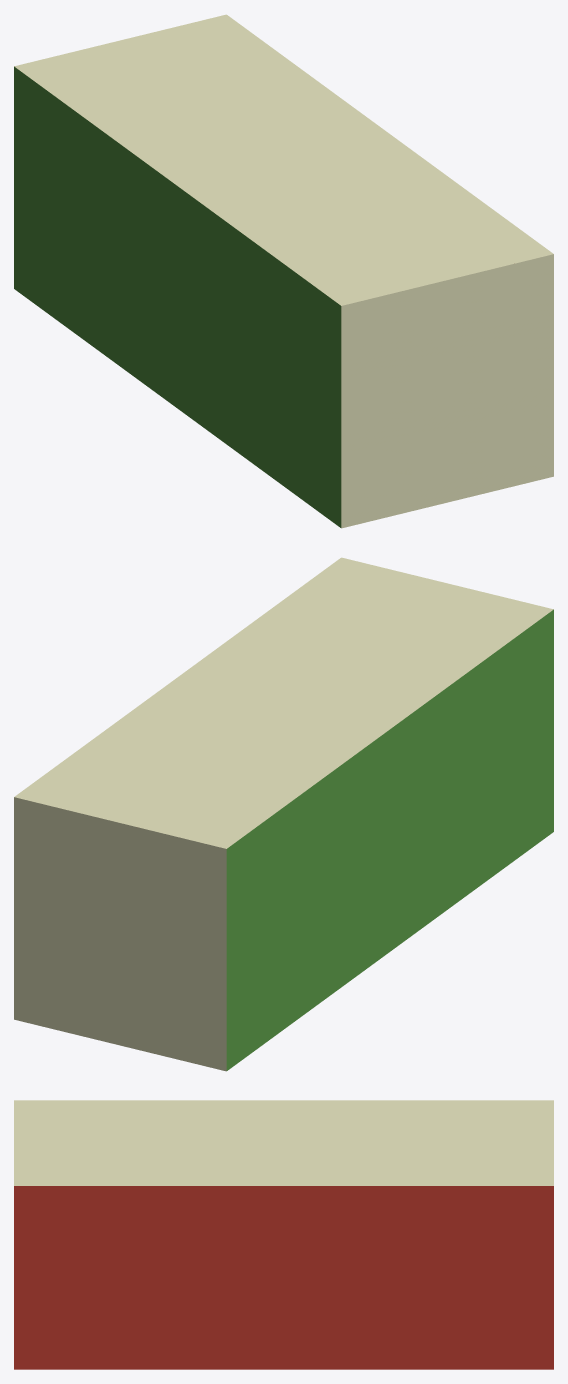
The model's file is cornell_tiles.dae.
3 views of the same model, one above another, from view 1: azimuth 30°, elevation 25°; view 2: azimuth 150°, elevation 25°; view 3: azimuth 270°, elevation 25° (orthographic). The views are drawn at different scales.
Visible parts, largest first — view 1: Plane_061_016, Plane_061_017, Plane_061_018, Plane_061_022, Plane_061_023, Plane_061_019, Plane_061_021, Plane_061_024, Plane_061_020, Plane_046_008, Plane_046_007, Plane_046_011 (+45 smaller); view 2: Plane_038, Plane_043, Plane_037, Plane_035, Plane_040, Plane_042, Plane_036, Plane_041, Plane_039, Plane_047, Plane_048, Plane_051 (+45 smaller); view 3: Plane_023, Plane_024, Plane_028, Plane_030, Plane_033, Plane_034_001, Plane_034_003, Plane_034_005, Plane_034_007, Plane_034_008, Plane_034_010, Plane_034_011 (+36 smaller).
Boxes of the visible parts, <box> form: Plane_061_016: <box>341,289,412,379</box>; Plane_061_017: <box>341,363,412,454</box>; Plane_061_018: <box>341,437,412,528</box>; Plane_061_022: <box>483,402,553,493</box>; Plane_061_023: <box>483,328,553,419</box>; Plane_061_019: <box>412,271,482,362</box>; Plane_061_021: <box>412,420,482,510</box>; Plane_061_024: <box>483,254,553,345</box>; Plane_061_020: <box>412,345,482,436</box>; Plane_046_008: <box>218,290,259,394</box>; Plane_046_007: <box>259,320,300,423</box>; Plane_046_011: <box>300,424,341,527</box>; Plane_038: <box>155,906,226,997</box>; Plane_043: <box>155,832,226,922</box>; Plane_037: <box>155,980,226,1071</box>; Plane_035: <box>14,945,84,1036</box>; Plane_040: <box>14,871,84,962</box>; Plane_042: <box>85,814,155,905</box>; Plane_036: <box>85,963,155,1053</box>; Plane_041: <box>14,797,84,888</box>; Plane_039: <box>85,888,155,979</box>; Plane_047: <box>308,833,349,937</box>; Plane_048: <box>267,863,308,966</box>; Plane_051: <box>226,967,267,1070</box>; Plane_023: <box>419,1308,486,1369</box>; Plane_024: <box>486,1308,553,1369</box>; Plane_028: <box>351,1308,418,1369</box>; Plane_030: <box>419,1247,486,1308</box>; Plane_033: <box>419,1186,486,1247</box>; Plane_034_001: <box>284,1186,351,1247</box>; Plane_034_003: <box>149,1186,216,1247</box>; Plane_034_005: <box>14,1186,81,1247</box>; Plane_034_007: <box>149,1247,216,1308</box>; Plane_034_008: <box>14,1247,81,1308</box>; Plane_034_010: <box>284,1247,351,1308</box>; Plane_034_011: <box>284,1308,351,1369</box>.
Size of the model in its own units: 4.97 by 13.25 by 4.98.
